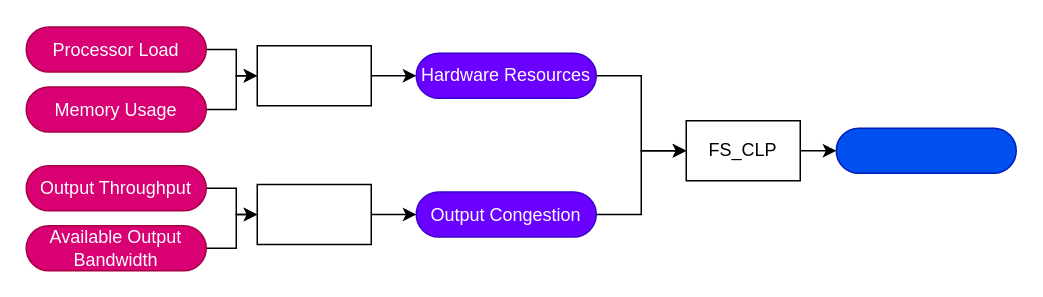
This 1043x297 diagram has some shape labels left out. The box of each missing label's shape, as (x1, y1, x2, y2) in pixels:
Computing Load Percentage: (835, 127, 1016, 173)
FS_HDR: (256, 44, 371, 106)
FS_OUTC: (256, 183, 371, 244)
